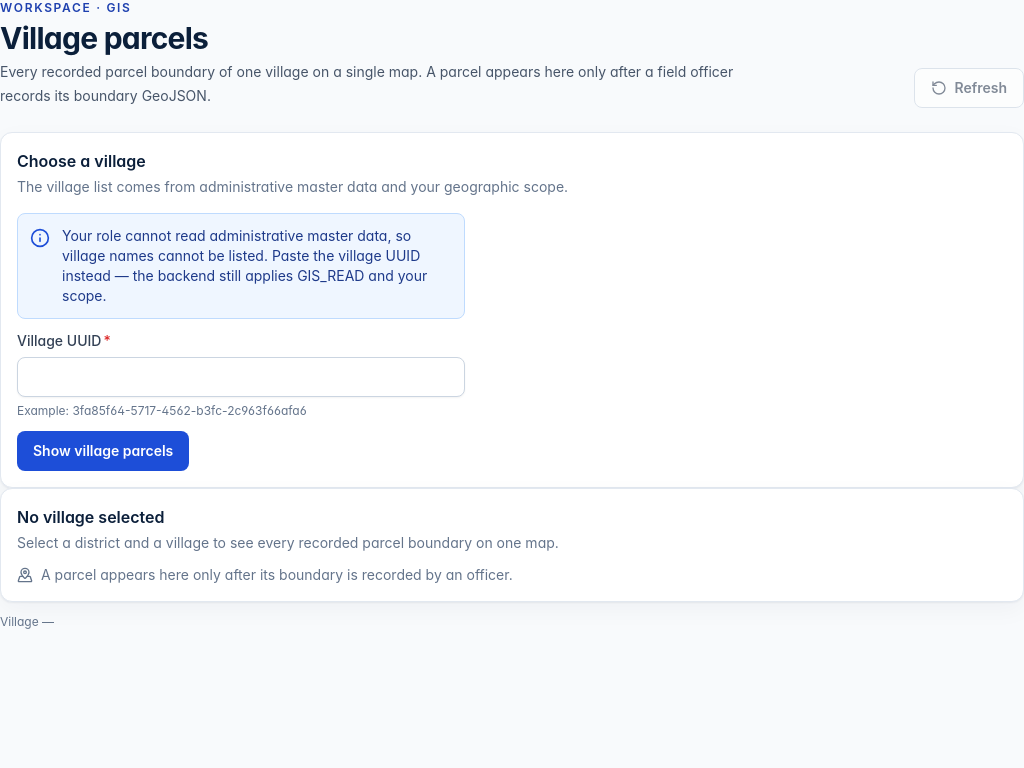
VillageParcelsPage › falls back to a village UUID when master data is not readable
Later steps or results of the test are not shown.
Type "not-a-uuid" into the field labelled "Village UUID*" at [241, 377], box [17,357,465,397]
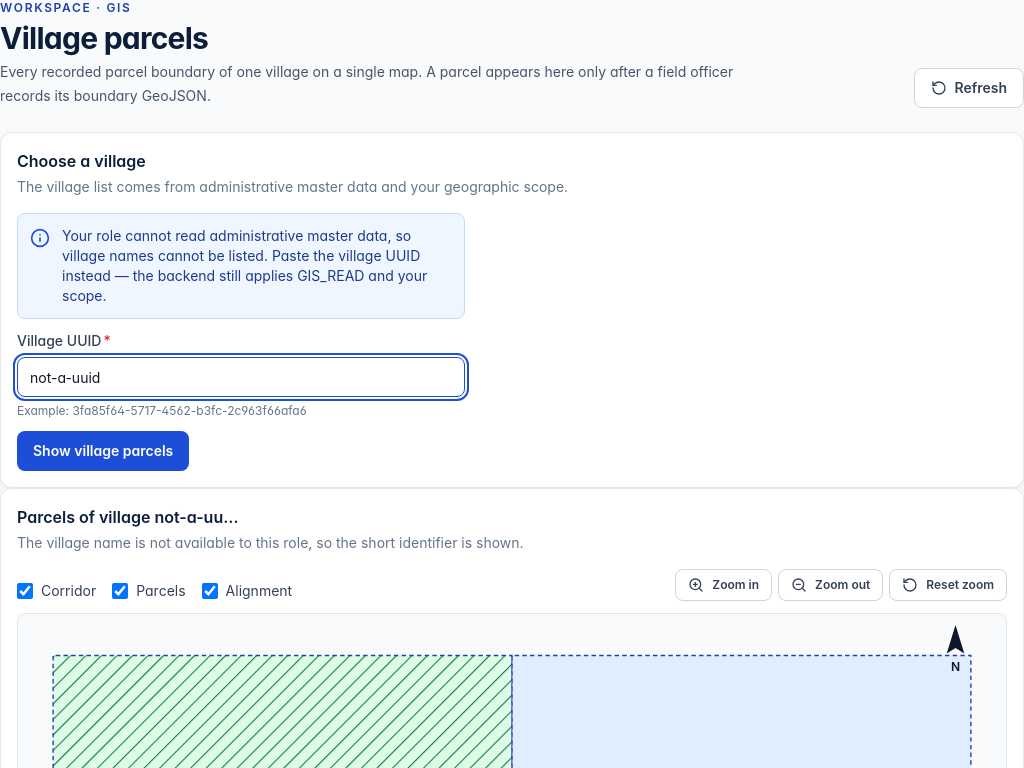
Click the button "Show village parcels" at [103, 451], box [17,431,189,471]
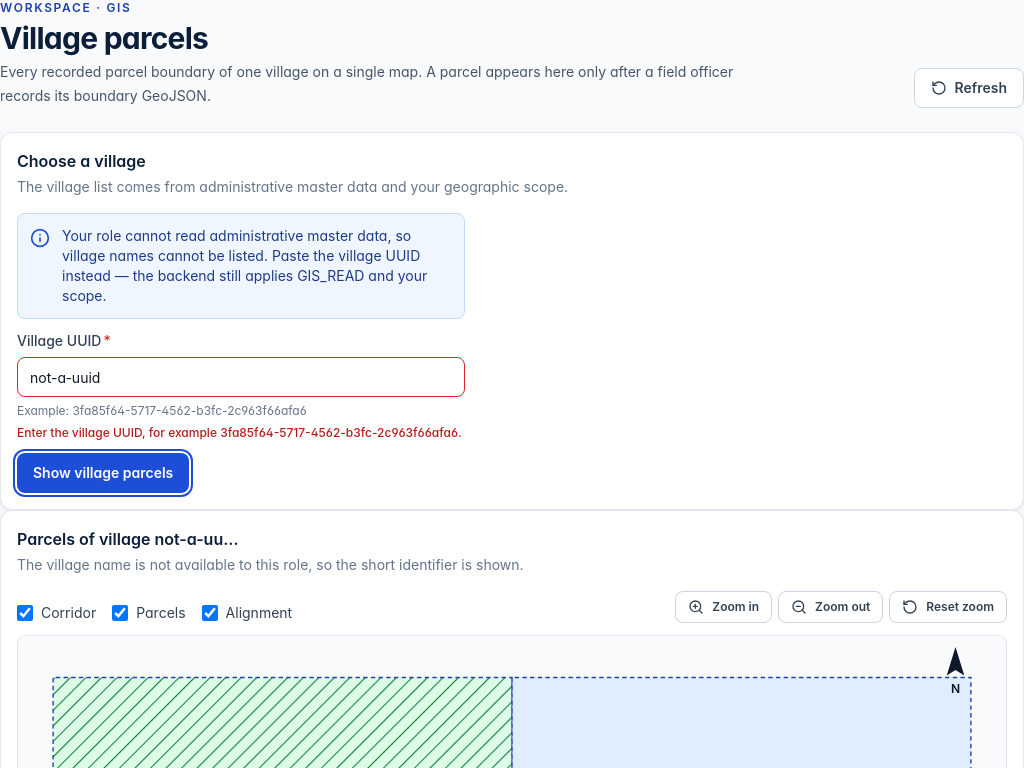
Now the text "Enter the village UUID, for example 3fa85f64-5717-4562-b3fc-2c963f66afa6." is shown, box [17,425,465,441]
